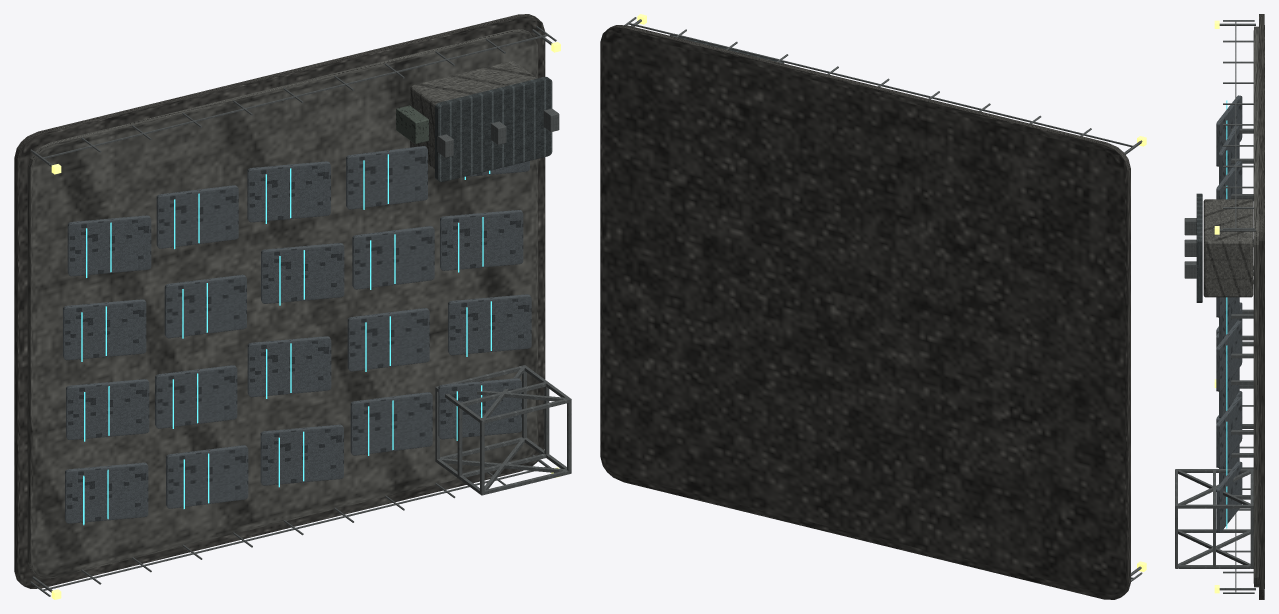
Rendered from b-48-neutral-solar-farm-lod0.glb.
3 renders of one model, left to right at view 1: azimuth 30°, elevation 25°; view 2: azimuth 150°, elevation 25°; view 3: azimuth 270°, elevation 25°, orthographic. The views are drawn at different scales.
Parts seen in each view (by area): view 1: foundation_inner_pad, foundation, inverter_house_roof, solar_1_2_panel, solar_3_0_panel, solar_2_0_panel, solar_0_0_panel, solar_1_4_panel, solar_1_0_panel, solar_2_2_panel, solar_2_4_panel, solar_0_2_panel (+12 smaller); view 2: foundation; view 3: inverter_house_main_hall, foundation, foundation_inner_pad, solar_2_4_panel, solar_1_4_panel, solar_0_4_panel, solar_3_0_panel, inverter_house_roof, solar_3_1_panel, solar_3_2_panel, solar_1_3_panel, solar_2_3_panel (+17 smaller).
Boxes of the visible parts, box(x1,y1,x2,y2) form: foundation_inner_pad: box(27, 29, 537, 578); foundation: box(14, 14, 545, 588); inverter_house_roof: box(435, 77, 552, 182); solar_1_2_panel: box(247, 336, 331, 397); solar_3_0_panel: box(67, 215, 151, 276); solar_2_0_panel: box(63, 299, 146, 360); solar_0_0_panel: box(65, 462, 148, 523); solar_1_4_panel: box(448, 294, 531, 355); solar_1_0_panel: box(66, 379, 149, 439); solar_2_2_panel: box(261, 243, 344, 303); solar_2_4_panel: box(440, 210, 523, 270); solar_0_2_panel: box(260, 424, 343, 485); foundation: box(600, 25, 1130, 599); inverter_house_main_hall: box(1203, 199, 1253, 297); foundation: box(1259, 14, 1264, 599); foundation_inner_pad: box(1253, 26, 1258, 587); solar_2_4_panel: box(1216, 320, 1242, 391); solar_1_4_panel: box(1216, 396, 1242, 467); solar_0_4_panel: box(1216, 461, 1242, 532); solar_3_0_panel: box(1216, 95, 1242, 166); inverter_house_roof: box(1196, 193, 1202, 302); solar_3_1_panel: box(1219, 125, 1239, 184); solar_3_2_panel: box(1216, 160, 1242, 199); solar_1_3_panel: box(1219, 368, 1239, 418); solar_2_3_panel: box(1219, 297, 1239, 343).
Size of what is drawn, in the model's own units: 17 by 14 by 2.97.
Materials: 9 (9 with a texture image).
